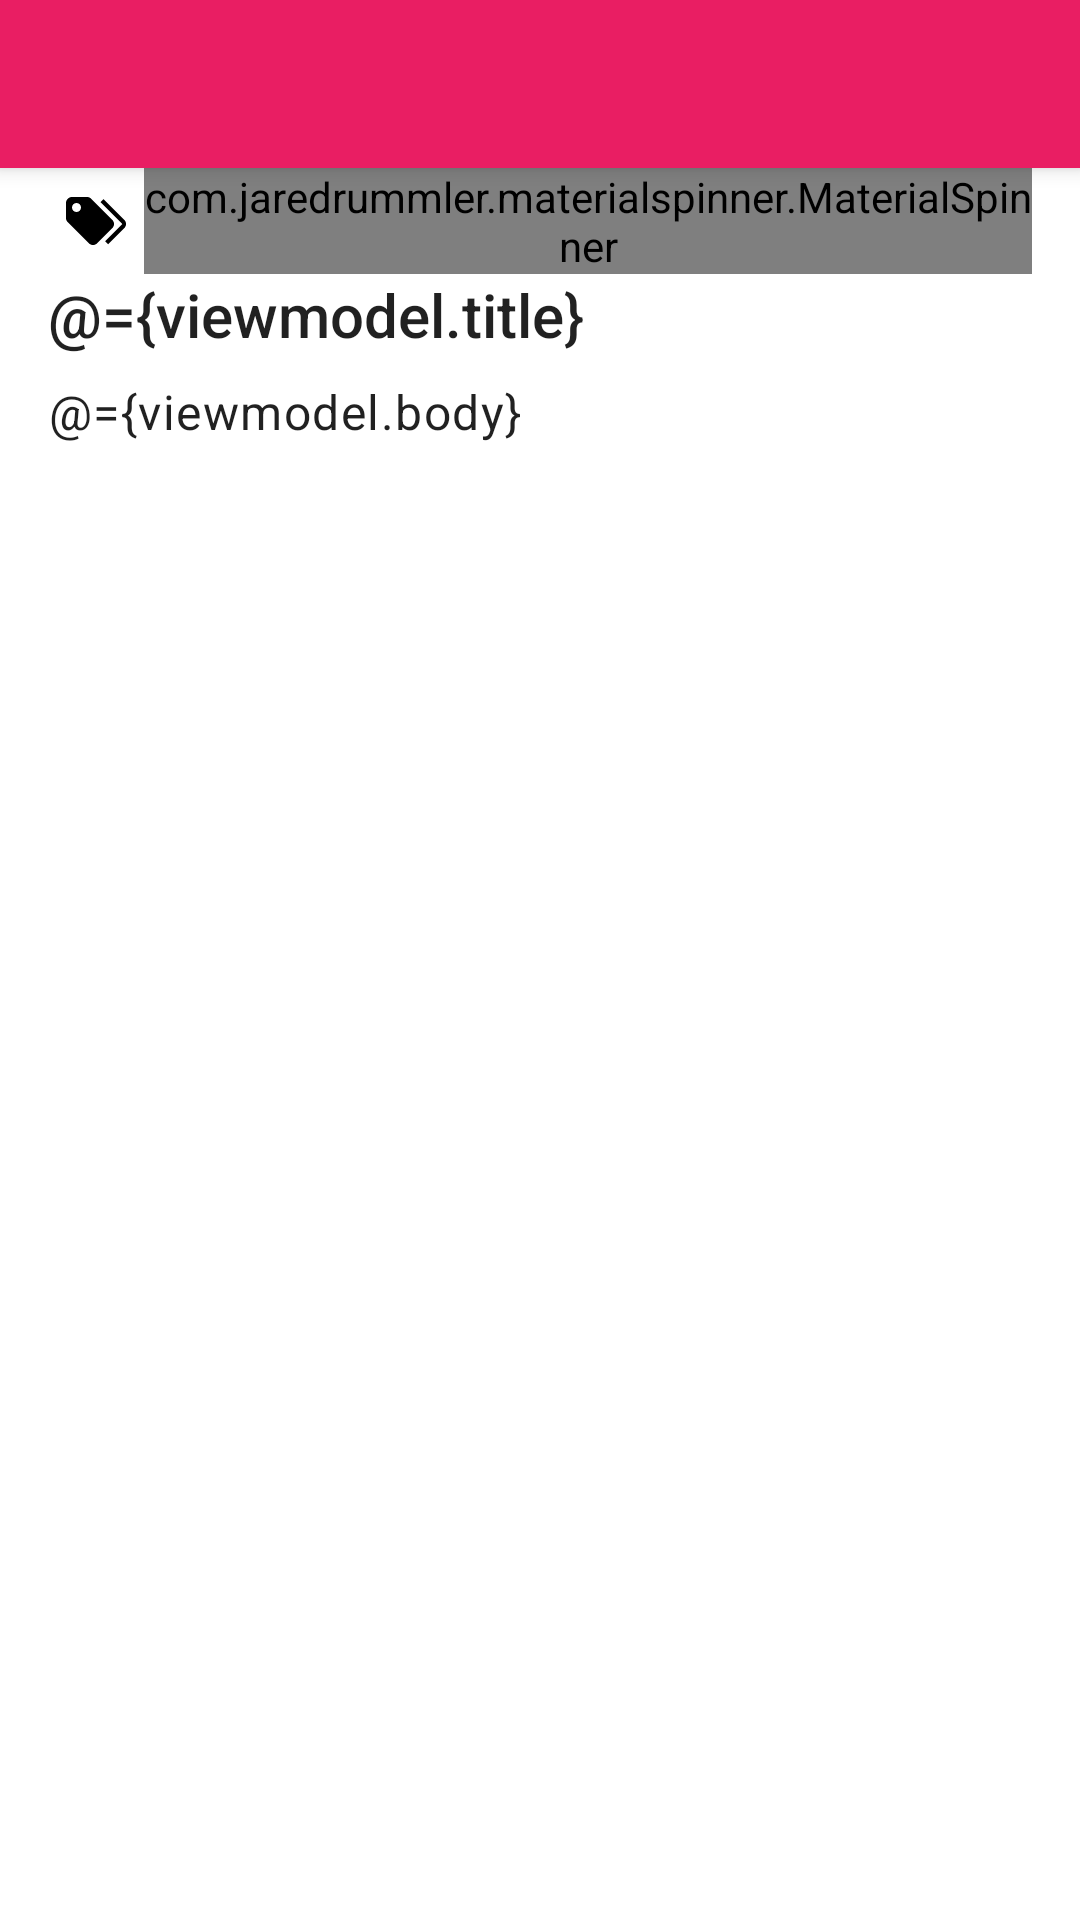

Where to tap for icons on this 1080w x 1920h app screen, as point (x, y):
tag: point (96, 221)
